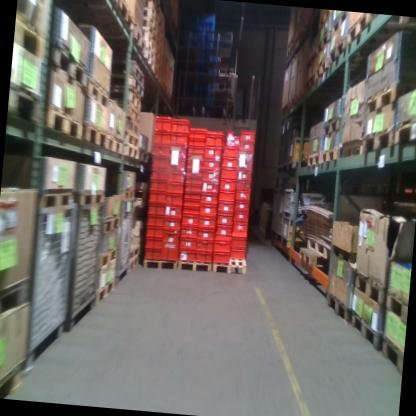pallet: (45, 34, 92, 95), (14, 14, 54, 66), (0, 274, 35, 332), (42, 100, 86, 144), (7, 83, 47, 126), (351, 266, 388, 312), (348, 307, 385, 353), (365, 79, 407, 119), (28, 185, 78, 218), (361, 122, 401, 161), (379, 275, 410, 325), (0, 348, 31, 397), (346, 12, 382, 52), (83, 72, 116, 110), (322, 285, 353, 324), (377, 334, 405, 376), (82, 119, 108, 159), (391, 112, 416, 153), (212, 252, 249, 278), (299, 234, 334, 261), (296, 245, 330, 272), (91, 275, 117, 309), (328, 34, 349, 74), (72, 187, 107, 211), (140, 253, 178, 274), (129, 22, 148, 63), (329, 242, 361, 266), (314, 52, 336, 86), (176, 258, 211, 277), (96, 245, 118, 274), (117, 0, 136, 33), (97, 212, 120, 237), (316, 28, 336, 56), (342, 137, 364, 162), (105, 131, 124, 159), (320, 114, 343, 137), (320, 145, 340, 166), (125, 252, 142, 276), (319, 9, 337, 30), (331, 11, 348, 31), (125, 242, 143, 260), (306, 149, 321, 170), (128, 79, 145, 97), (118, 187, 138, 202), (123, 146, 141, 162), (125, 104, 141, 122), (124, 132, 140, 148), (125, 119, 141, 135), (127, 91, 142, 108), (97, 0, 119, 5), (139, 150, 150, 160)
small_load_carrier: (160, 229, 182, 262), (213, 234, 232, 253), (153, 131, 173, 148), (205, 132, 224, 149), (172, 119, 191, 136), (169, 144, 189, 160), (154, 117, 174, 133), (182, 213, 200, 230), (166, 169, 186, 184), (163, 216, 182, 231), (148, 191, 167, 206), (230, 232, 247, 248), (204, 147, 222, 162), (143, 247, 161, 262), (152, 158, 170, 173), (212, 252, 231, 266), (176, 249, 195, 263), (179, 237, 198, 251), (165, 182, 184, 196), (218, 200, 235, 215), (198, 225, 215, 240), (200, 204, 218, 218), (144, 237, 162, 251), (168, 158, 187, 171), (164, 194, 183, 207), (223, 145, 240, 159), (219, 178, 237, 191), (201, 193, 219, 206), (153, 147, 172, 159), (229, 247, 246, 260), (221, 167, 238, 180), (204, 160, 221, 173), (203, 171, 220, 184), (202, 182, 219, 195), (147, 215, 164, 228), (163, 206, 183, 217), (218, 189, 236, 201), (147, 204, 165, 216), (183, 183, 202, 194), (171, 134, 190, 145), (146, 226, 163, 238), (151, 171, 168, 183), (150, 181, 168, 192), (196, 251, 212, 263), (196, 241, 213, 252), (234, 200, 249, 212), (233, 211, 248, 223), (181, 229, 199, 239), (240, 131, 256, 142), (232, 222, 248, 233), (217, 213, 233, 224), (217, 223, 233, 234), (199, 216, 215, 227), (188, 152, 204, 163), (239, 144, 256, 154), (222, 158, 239, 168), (183, 198, 200, 208), (235, 191, 250, 202), (192, 130, 205, 142), (238, 161, 253, 171), (239, 153, 255, 162), (183, 207, 201, 215), (238, 172, 252, 182), (188, 146, 205, 154), (236, 183, 251, 192), (183, 193, 201, 200), (188, 161, 202, 170), (188, 176, 202, 184), (188, 140, 204, 147), (188, 169, 201, 177)
stillage: (22, 198, 82, 380), (65, 195, 109, 338), (113, 193, 139, 286), (281, 112, 320, 171), (283, 188, 330, 221), (287, 135, 317, 172), (280, 218, 311, 253), (269, 188, 281, 240), (275, 124, 288, 171), (275, 190, 285, 243)
